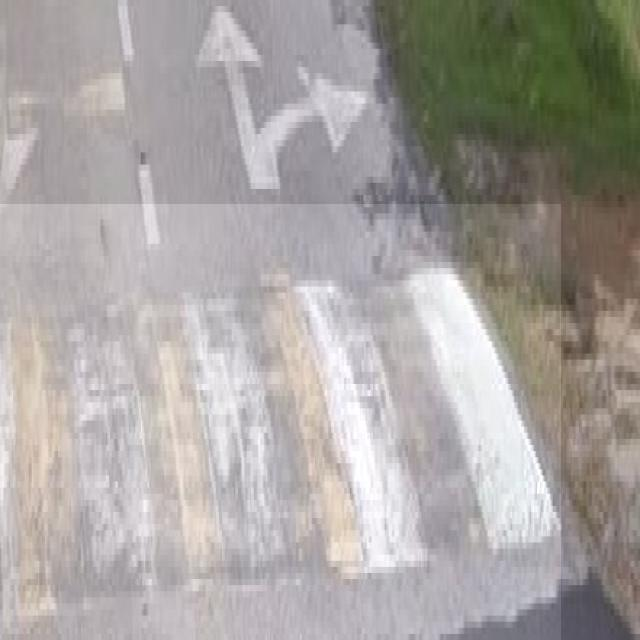speed-bump: (0, 204, 561, 640)
